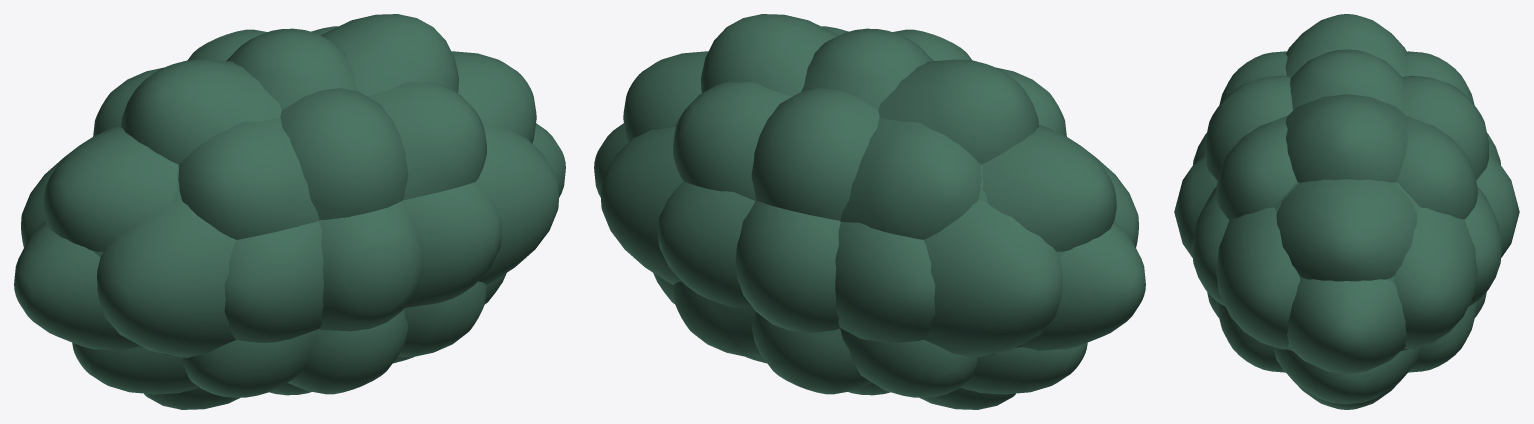
The model's file is bush.obj.
3 views of the same model, side by side, from view 1: azimuth 30°, elevation 25°; view 2: azimuth 150°, elevation 25°; view 3: azimuth 270°, elevation 25° (orthographic). The views are drawn at different scales.
Visible parts, largest first — view 1: bush; view 2: bush; view 3: bush.
Boxes of the visible parts, <box> form: bush: <box>14,14,565,409</box>; bush: <box>594,14,1145,409</box>; bush: <box>1174,14,1519,409</box>.
Bounding box in the file's own units: 4 × 2.5 × 2.5.
